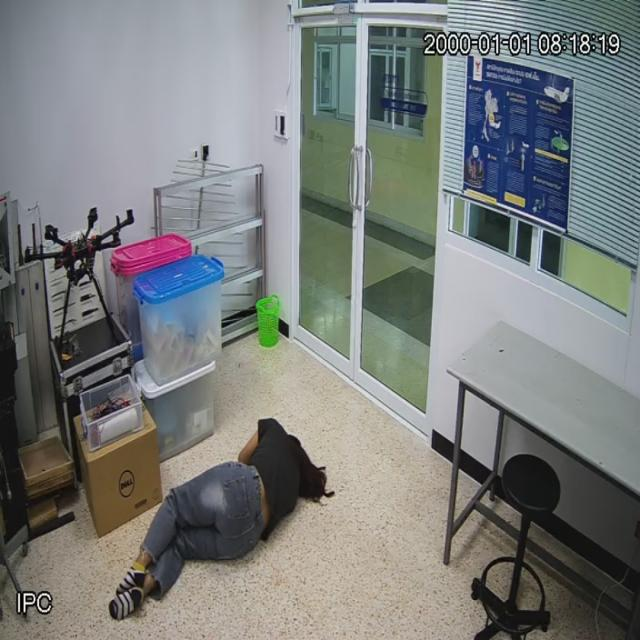fall: (109, 403, 320, 616)
